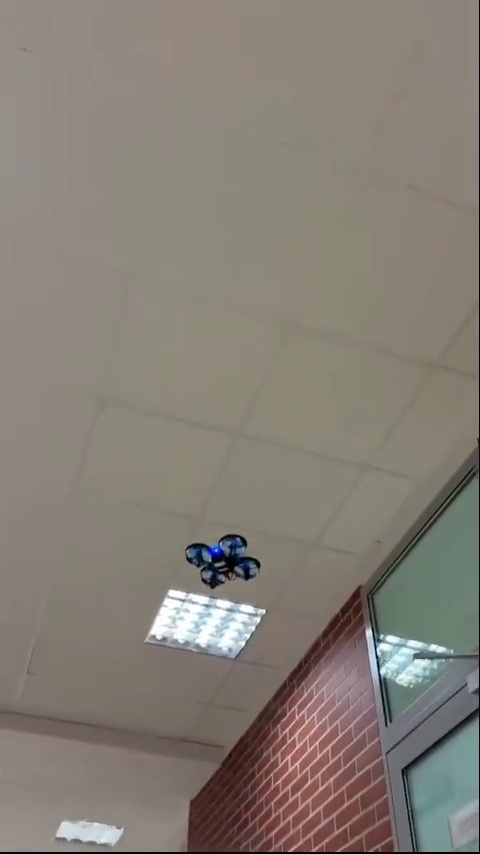drone: (185, 533, 261, 587)
